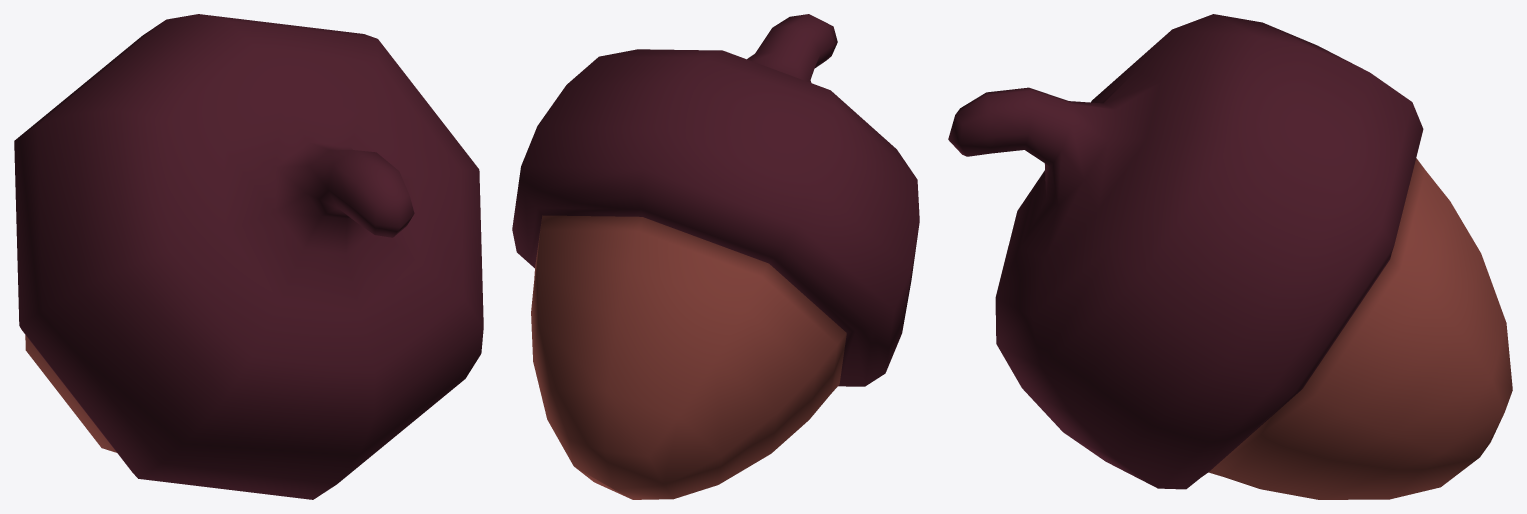
The model's file is Acorn_Food.glb.
The picture shows the model from 3 angles, left to right: view 1: azimuth 30°, elevation 25°; view 2: azimuth 150°, elevation 25°; view 3: azimuth 270°, elevation 25°; orthographic projection. The views are drawn at different scales.
Parts seen in each view (by area): view 1: Acorn_Food; view 2: Acorn_Food; view 3: Acorn_Food.
Boxes of the visible parts, left/top/right/bottom form: Acorn_Food: left=14, top=14, right=483, bottom=499; Acorn_Food: left=512, top=14, right=919, bottom=499; Acorn_Food: left=948, top=14, right=1512, bottom=499.
Bounding box in the file's own units: 0.061 × 0.0613 × 0.0693.
Materials: 1 (1 with a texture image).
